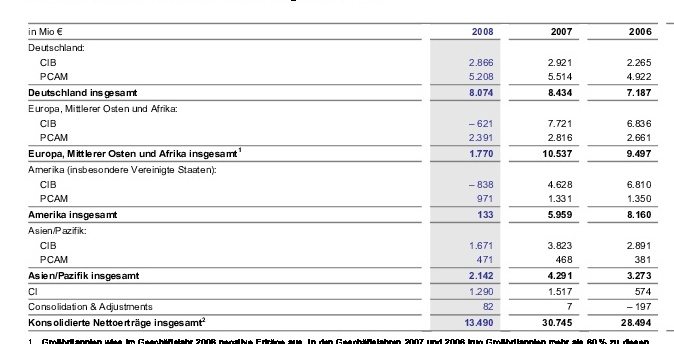table: (0, 0, 674, 344)
